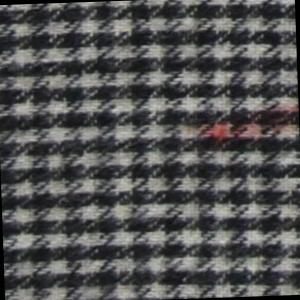Stain: (186, 103, 300, 157)
